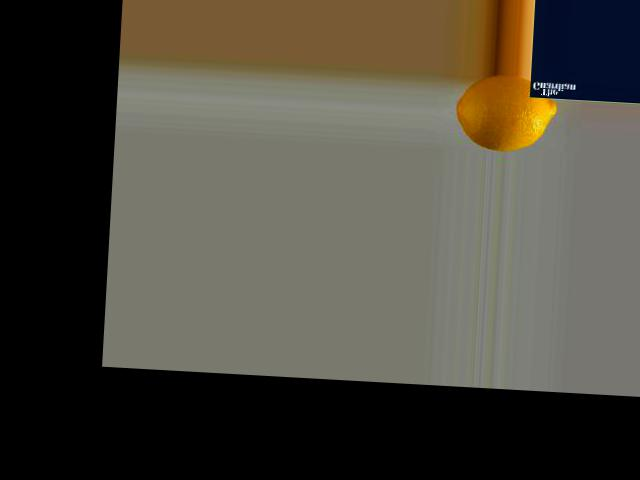lemon: (446, 72, 561, 154)
